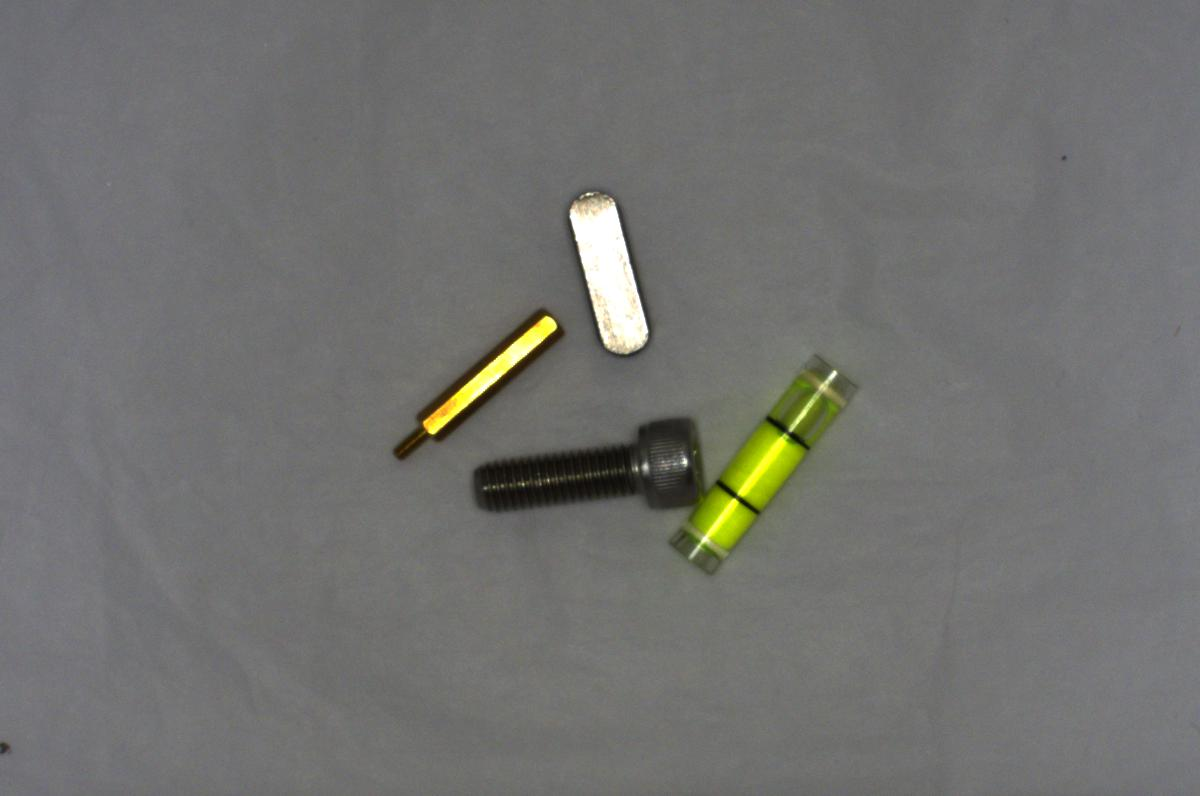Hexagon pillar: (384, 302, 571, 467)
Hexagon screw: (478, 412, 706, 518)
Horizontal bubble: (670, 343, 857, 576)
Keybar: (566, 181, 661, 365)
